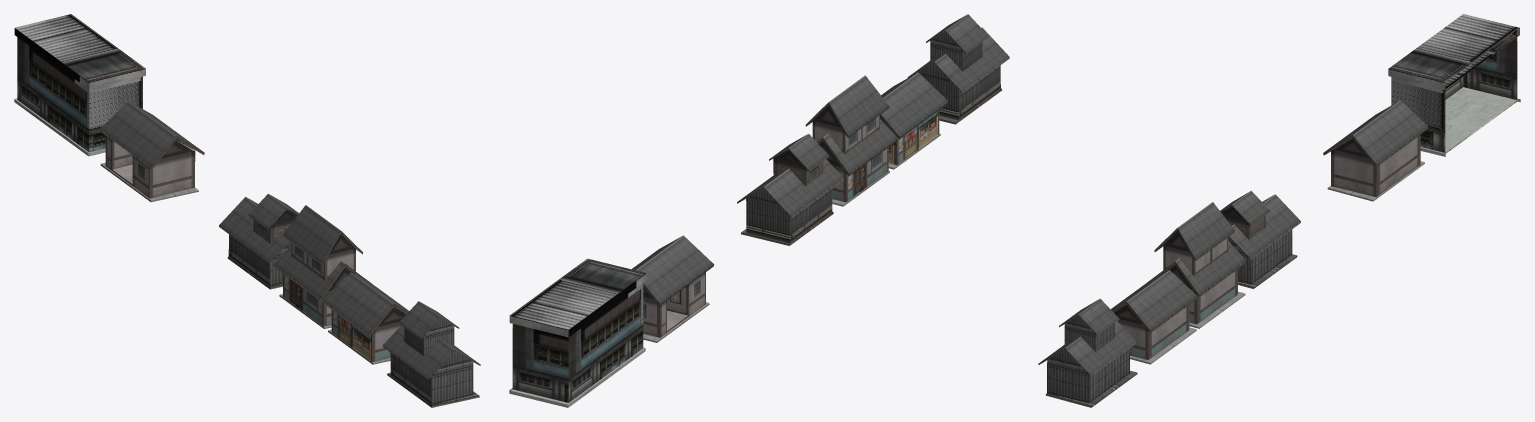
Rendered from bukdolsangga.FBX.
3 renders of one model, left to right at view 1: azimuth 30°, elevation 25°; view 2: azimuth 150°, elevation 25°; view 3: azimuth 330°, elevation 25°, orthographic. The views are drawn at different scales.
Parts seen in each view (by area): view 1: polySurface78, polySurface99, polySurface88, polySurface102, polySurface76, polySurface100, polySurface61, polySurface60, polySurface77; view 2: polySurface78, polySurface102, polySurface61, polySurface88, polySurface76, polySurface99, polySurface100, polySurface60, polySurface77; view 3: polySurface88, polySurface99, polySurface102, polySurface76, polySurface100, polySurface78, polySurface61, polySurface77, polySurface60.
Part boxes in pixels (x1,y1,x2,y2): polySurface78: (17, 37, 142, 152); polySurface99: (99, 101, 204, 202); polySurface88: (382, 301, 480, 407); polySurface102: (273, 205, 372, 328); polySurface76: (14, 14, 145, 89); polySurface100: (321, 272, 408, 364); polySurface61: (219, 193, 298, 289); polySurface60: (253, 209, 297, 243); polySurface77: (14, 98, 105, 156); polySurface78: (512, 283, 643, 402); polySurface102: (805, 75, 898, 206); polySurface61: (737, 133, 843, 245); polySurface88: (907, 14, 1009, 124); polySurface76: (509, 258, 646, 337); polySurface99: (632, 235, 714, 342); polySurface100: (880, 72, 948, 169); polySurface60: (773, 150, 823, 186); polySurface77: (509, 347, 645, 407); polySurface88: (1038, 298, 1137, 407); polySurface99: (1323, 100, 1428, 201); polySurface102: (1146, 202, 1246, 328); polySurface76: (1388, 14, 1519, 89); polySurface100: (1111, 270, 1197, 364); polySurface78: (1391, 30, 1517, 152); polySurface61: (1220, 190, 1300, 288); polySurface77: (1420, 87, 1520, 156); polySurface60: (1221, 206, 1265, 239).
Bounding box in the file's own units: 25.86 × 36.16 × 302.
